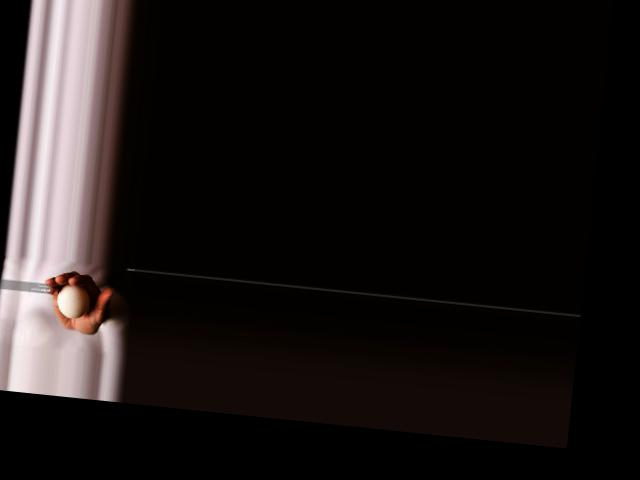egg: (55, 282, 91, 319)
